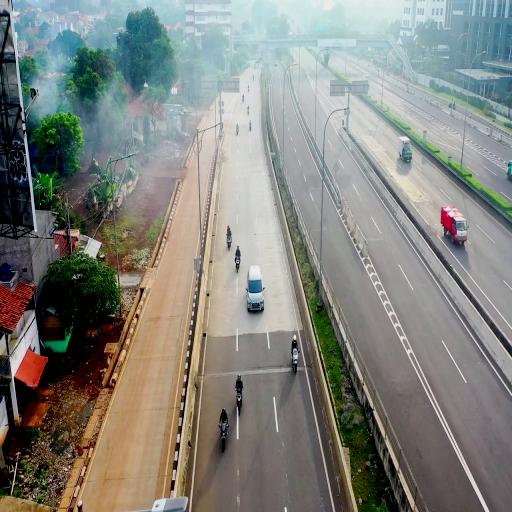vehicle: (440, 202, 468, 246), (246, 264, 264, 312), (398, 138, 412, 167)
